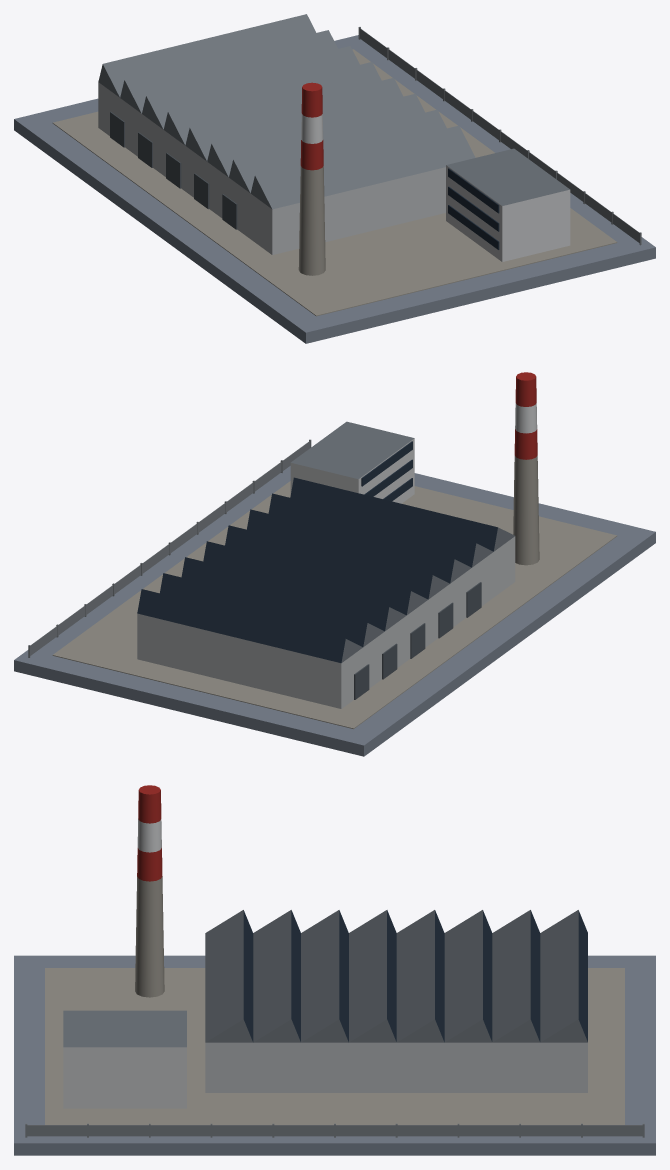
The model's file is factory.glb.
The picture shows the model from 3 angles, top to bottom: view 1: azimuth 30°, elevation 25°; view 2: azimuth 150°, elevation 25°; view 3: azimuth 270°, elevation 25°; orthographic projection. The views are drawn at different scales.
Parts seen in each view (by area): view 1: factory; view 2: factory; view 3: factory.
Boxes of the visible parts, left/top/right/bottom form: factory: left=14, top=14, right=655, bottom=343; factory: left=14, top=372, right=655, bottom=756; factory: left=14, top=785, right=655, bottom=1155.
Bounding box in the file's own units: 72 × 38.35 × 104.
